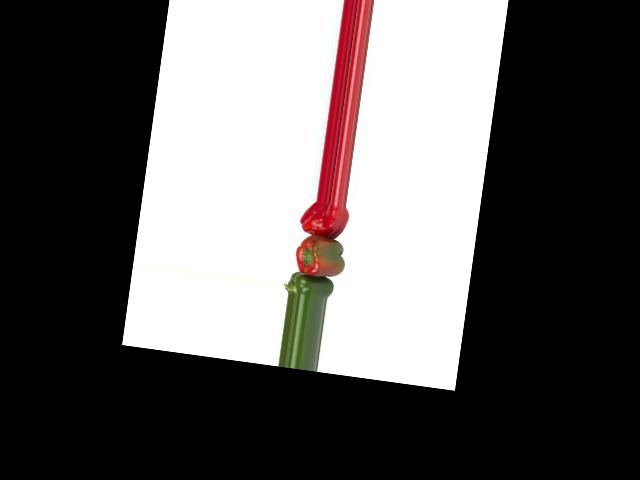bell_pepper: (294, 199, 352, 241)
